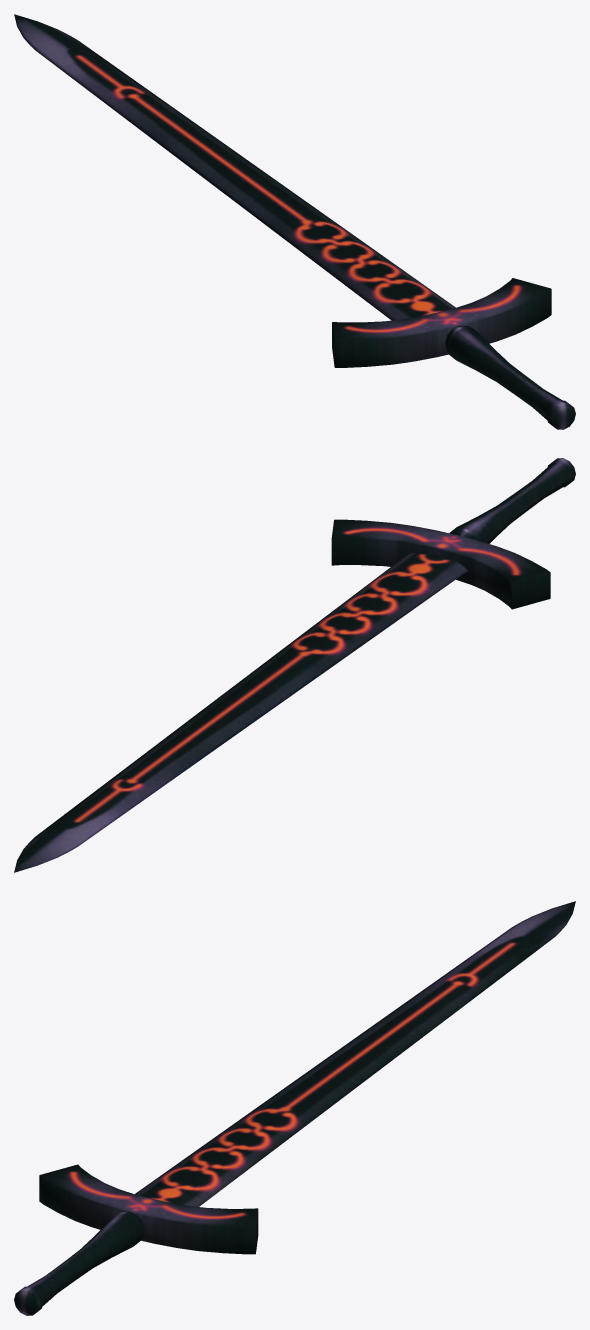
Rendered from 黑calibur.fbx.
The picture shows the model from 3 angles, top to bottom: view 1: azimuth 30°, elevation 25°; view 2: azimuth 150°, elevation 25°; view 3: azimuth 330°, elevation 25°; orthographic projection.
Parts seen in each view (by area): view 1: Body; view 2: Body; view 3: Body.
Part boxes in pixels (bbox=[...]): Body: bbox=[14, 14, 575, 429]; Body: bbox=[14, 458, 575, 872]; Body: bbox=[14, 901, 575, 1315].
Bounding box in the file's own units: 354 × 51.95 × 1562.
